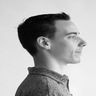ear: (32, 28, 57, 55)
